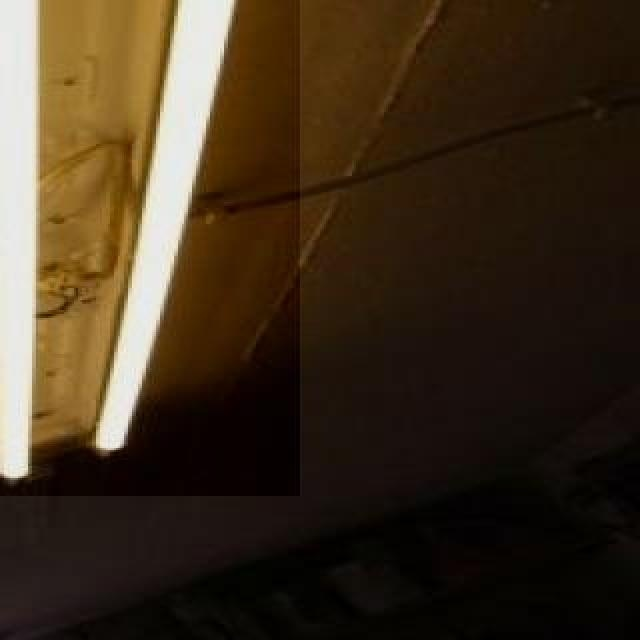fluorescent tube: (96, 0, 296, 458), (0, 0, 64, 500)
